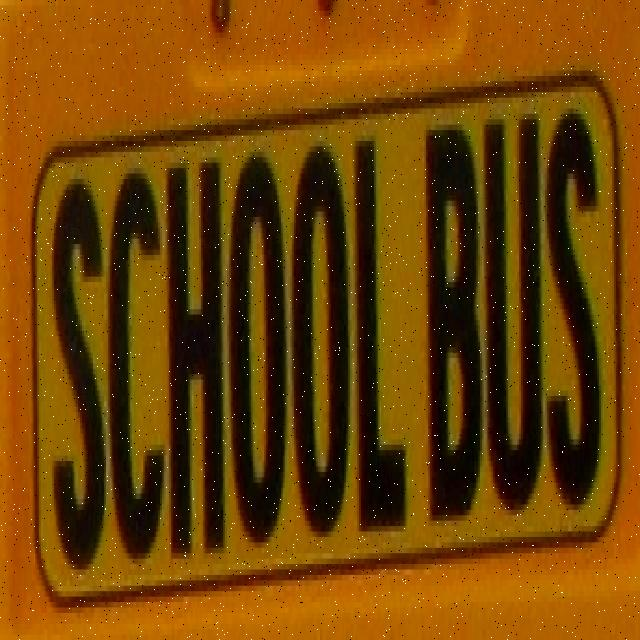licenseplate: (19, 31, 630, 620)
